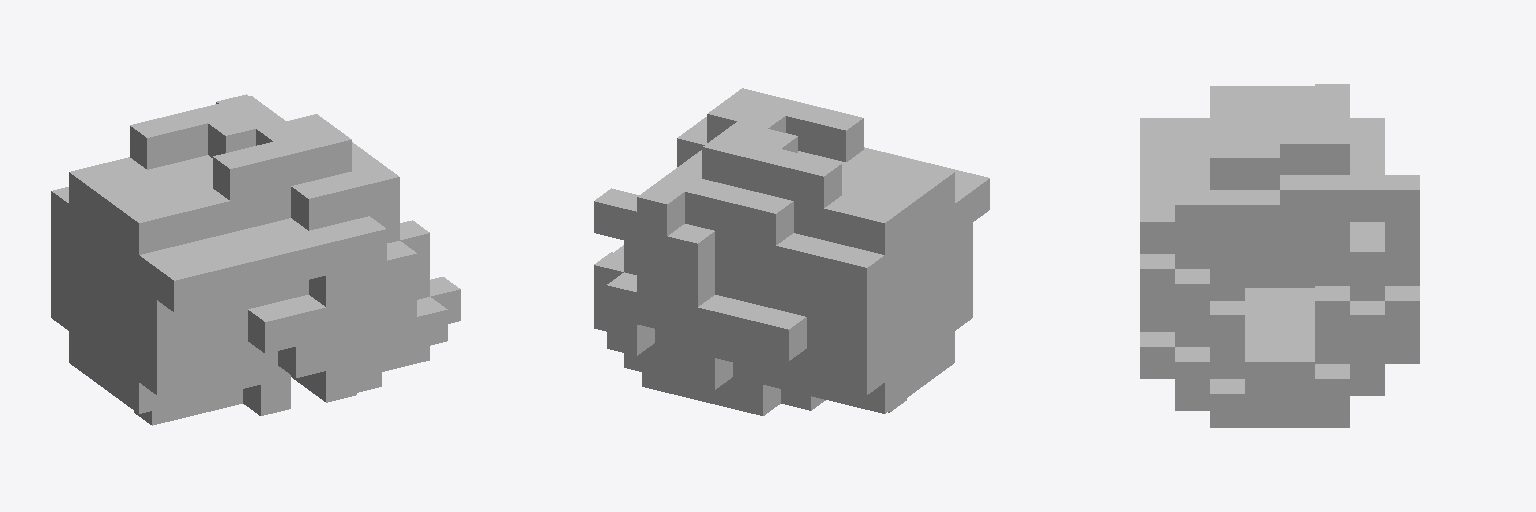
Rendered from Movement Monster-0-Brazo Mano.obj.
The picture shows the model from 3 angles: view 1: azimuth 30°, elevation 25°; view 2: azimuth 150°, elevation 25°; view 3: azimuth 270°, elevation 25°; orthographic projection.
Visible parts, largest first — view 1: Brazo Mano; view 2: Brazo Mano; view 3: Brazo Mano.
Part boxes in pixels (left/top/right/bottom): Brazo Mano: left=51, top=94, right=460, bottom=425; Brazo Mano: left=594, top=88, right=989, bottom=415; Brazo Mano: left=1140, top=84, right=1419, bottom=427.
Bounding box in the file's own units: 1 × 0.8 × 0.8.